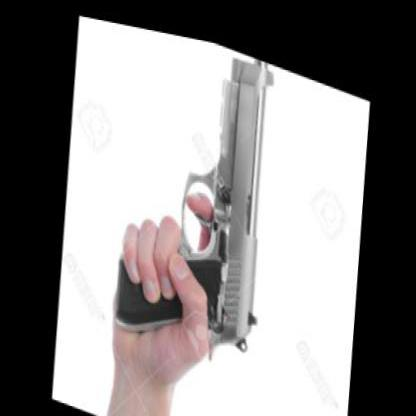pistol: (103, 16, 283, 379)
